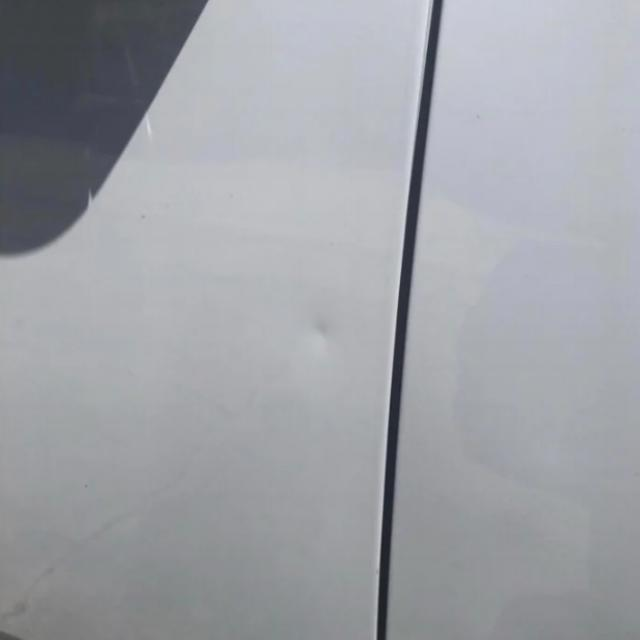dents: (284, 294, 348, 377)
